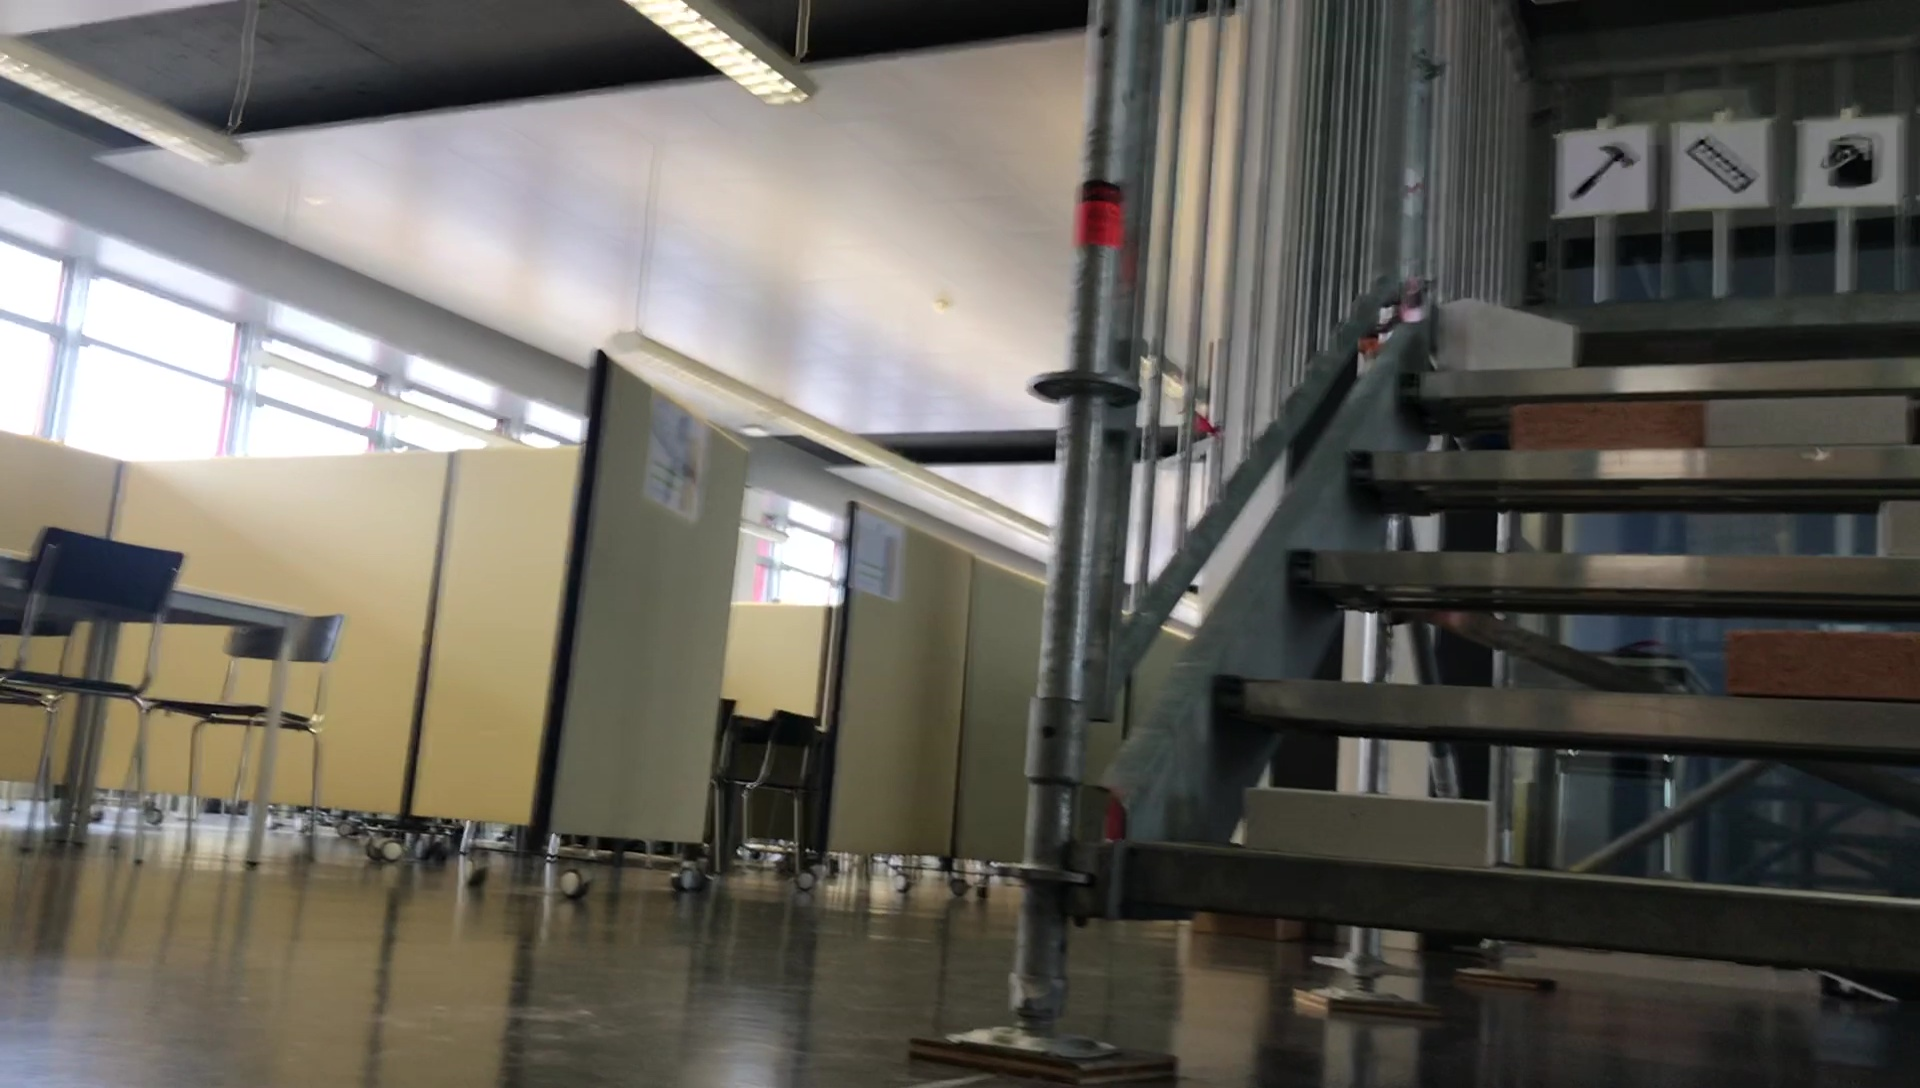brick: (1245, 794, 1507, 860), (1720, 630, 1920, 696), (1704, 397, 1913, 442), (1443, 302, 1577, 368), (1511, 404, 1701, 448), (1876, 495, 1920, 560)
bucket: (1818, 132, 1880, 196)
edge: (1127, 872, 1917, 942), (1222, 674, 1917, 750), (1288, 547, 1904, 591), (1411, 361, 1920, 401), (1356, 444, 1920, 475), (1455, 295, 1920, 328)
hammer: (1572, 142, 1635, 199)
ruler: (1687, 135, 1753, 202)
stairs: (976, 0, 1920, 1056)
steps: (1083, 285, 1920, 890)
